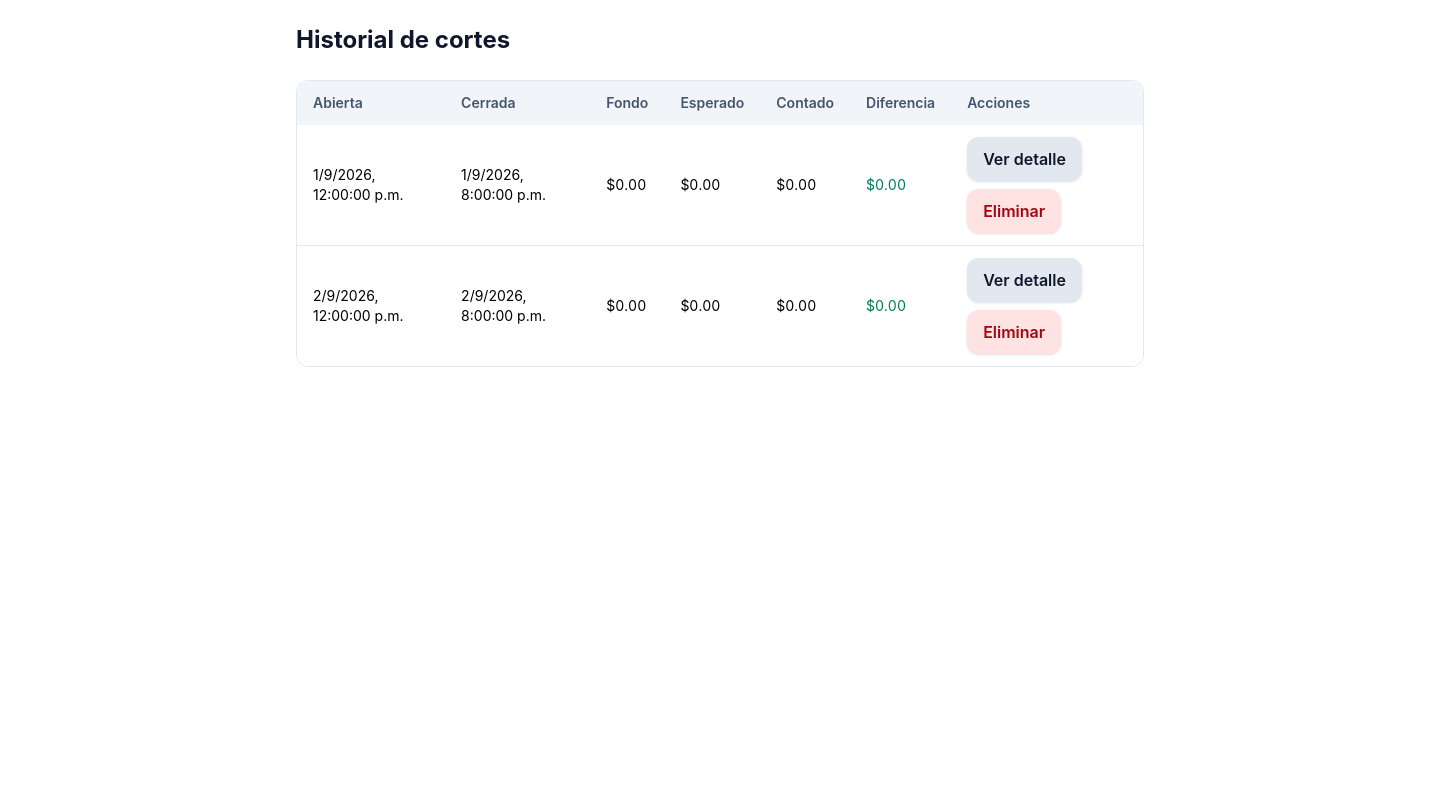
Scenario: permanent cash history deletion › retains the dialog and both rows on failure
Click the button with aria-label "eliminar corte del" at coordinates (1014, 211), box [967, 189, 1061, 233]
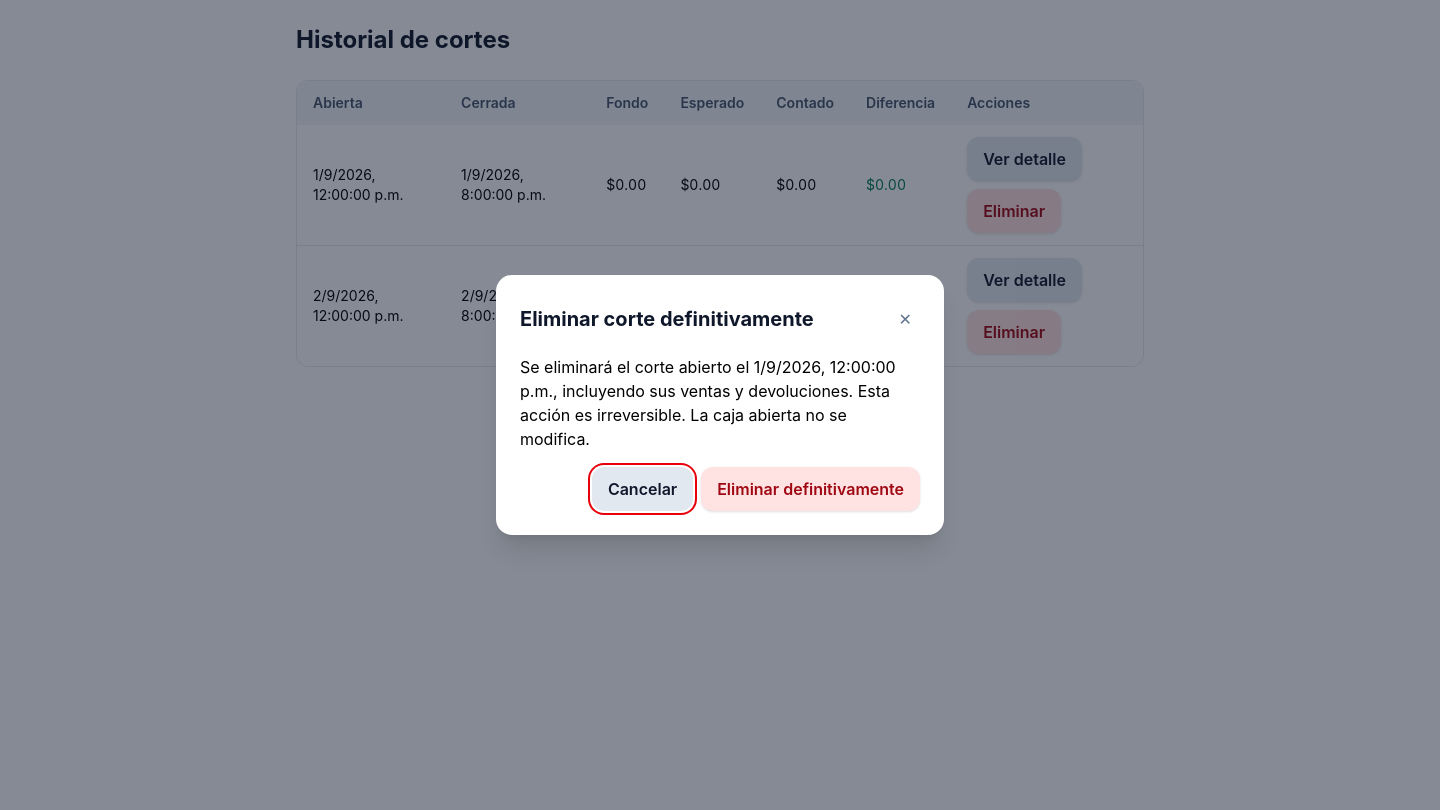
Click the button "Eliminar definitivamente" at coordinates (811, 489), box [701, 467, 920, 511]
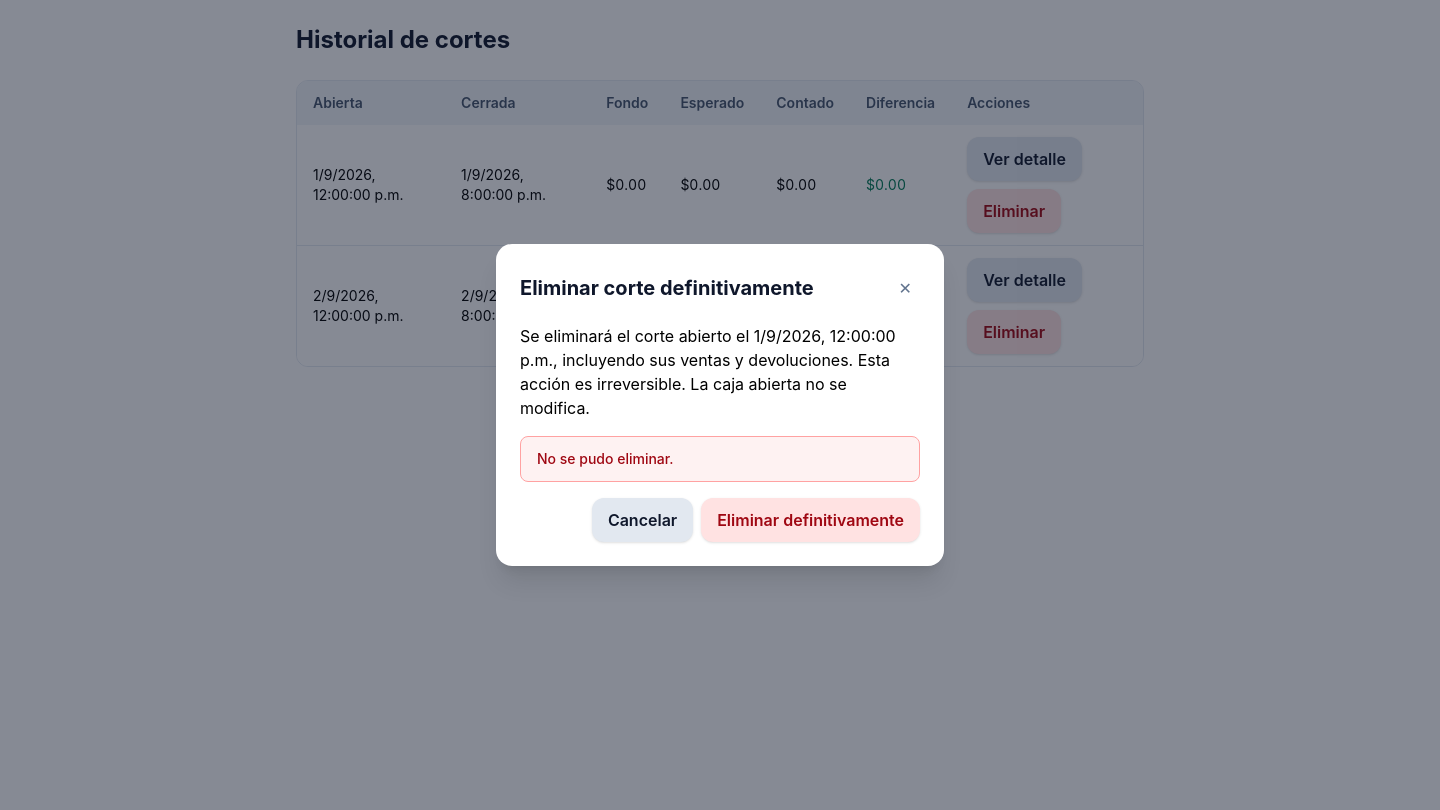
expect the dialog is shown: met, box [496, 244, 944, 566]
expect the number of buttons named "eliminar corte del" is 2: met, box [967, 189, 1061, 233]; [967, 310, 1061, 354]
expect the text "No se pudo eliminar." is shown: met, box [520, 436, 920, 482]
